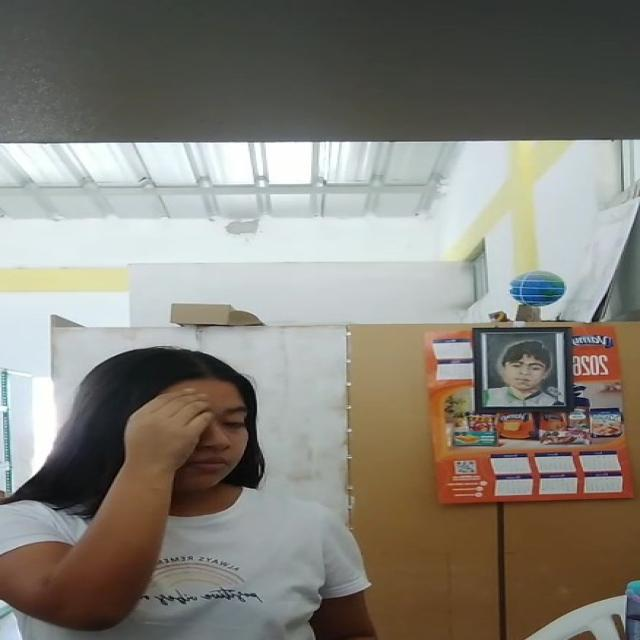7_mano_rostro: (121, 387, 210, 498)
